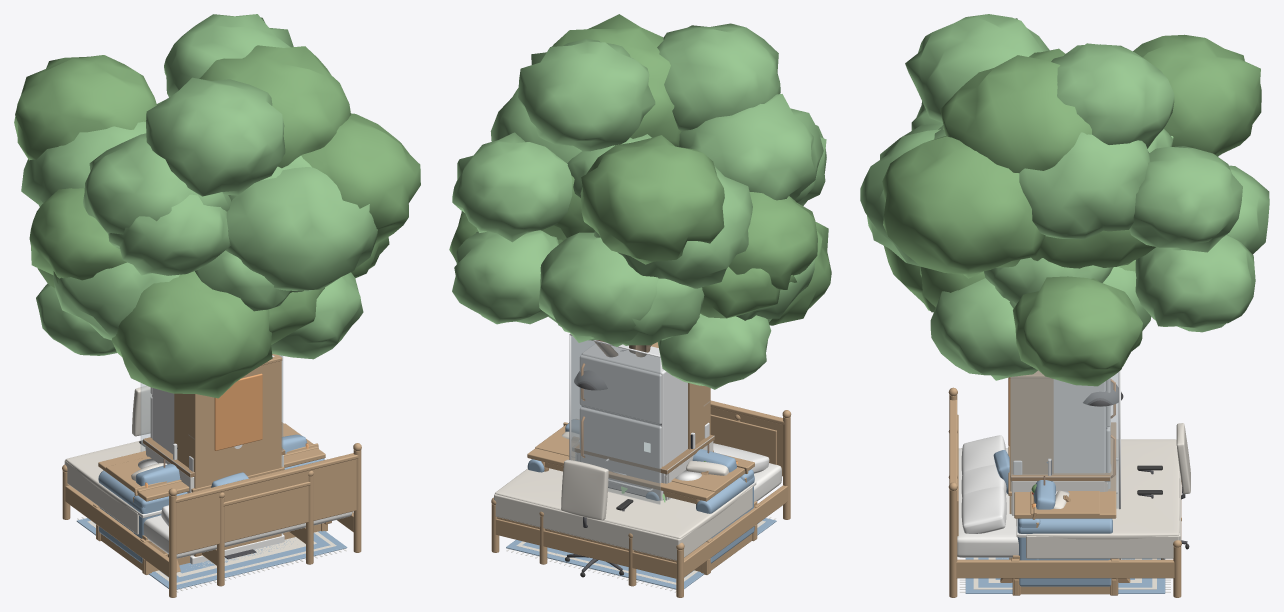
The model's file is furniture.glb.
3 views of the same model, side by side, from view 1: azimuth 30°, elevation 25°; view 2: azimuth 150°, elevation 25°; view 3: azimuth 270°, elevation 25° (orthographic). The views are drawn at different scales.
Parts seen in each view (by area): view 1: tree_mesh, bed-double_mesh, bookshelf_mesh, rug_mesh, bath-sink_mesh, sofa_mesh, bed-twin_mesh, dining-table_mesh, shower_mesh, fridge_mesh, computer_mesh, picnic_mesh (+2 smaller); view 2: tree_mesh, bed-double_mesh, shower_mesh, fridge_mesh, computer_mesh, sofa_mesh, bed-twin_mesh, rug_mesh, dining-table_mesh, picnic_mesh, bookshelf_mesh, counter_mesh (+3 smaller); view 3: tree_mesh, bed-double_mesh, shower_mesh, fridge_mesh, bookshelf_mesh, sofa_mesh, rug_mesh, dining-table_mesh, picnic_mesh, garden_mesh, computer_mesh, bed-twin_mesh (+2 smaller).
Part boxes in pixels (<box>): tree_mesh: <box>14,14,420,398</box>; bed-double_mesh: <box>62,440,361,597</box>; bookshelf_mesh: <box>174,354,282,556</box>; rug_mesh: <box>76,517,347,592</box>; bath-sink_mesh: <box>214,373,262,450</box>; sofa_mesh: <box>98,434,324,563</box>; bed-twin_mesh: <box>201,471,313,586</box>; dining-table_mesh: <box>98,422,325,501</box>; shower_mesh: <box>140,355,284,564</box>; fridge_mesh: <box>150,355,274,454</box>; computer_mesh: <box>132,385,284,492</box>; picnic_mesh: <box>106,423,331,572</box>; tree_mesh: <box>449,14,831,389</box>; bed-double_mesh: <box>491,400,791,597</box>; shower_mesh: <box>569,333,709,504</box>; fridge_mesh: <box>579,343,687,483</box>; computer_mesh: <box>561,450,713,577</box>; sofa_mesh: <box>527,419,754,563</box>; bed-twin_mesh: <box>539,414,740,586</box>; rug_mesh: <box>506,517,776,592</box>; dining-table_mesh: <box>527,419,754,506</box>; picnic_mesh: <box>535,425,745,492</box>; bookshelf_mesh: <box>651,342,710,449</box>; counter_mesh: <box>572,434,714,499</box>; tree_mesh: <box>860,14,1269,386</box>; bed-double_mesh: <box>948,387,1181,597</box>; shower_mesh: <box>1009,370,1121,559</box>; fridge_mesh: <box>1053,378,1115,488</box>; bookshelf_mesh: <box>1009,370,1053,559</box>; sofa_mesh: <box>1017,480,1112,586</box>; rug_mesh: <box>959,557,1170,593</box>; dining-table_mesh: <box>1014,422,1116,518</box>; picnic_mesh: <box>1000,491,1130,582</box>; garden_mesh: <box>1011,476,1119,595</box>; computer_mesh: <box>1008,423,1190,559</box>; bed-twin_mesh: <box>948,430,1181,540</box>.
Size of the model in its own units: 3.59 by 4.97 by 3.53.
